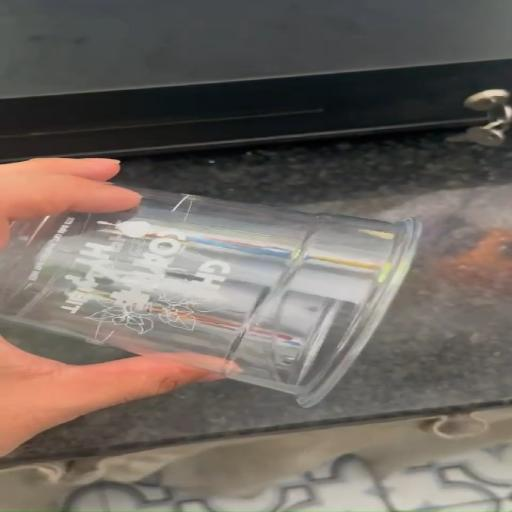ly_nhua: (0, 189, 420, 406)
